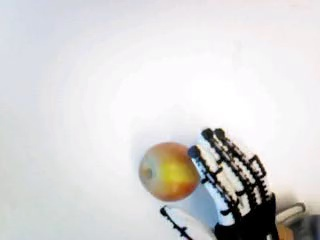apple: (139, 141, 199, 201)
hand: (159, 125, 277, 240)
